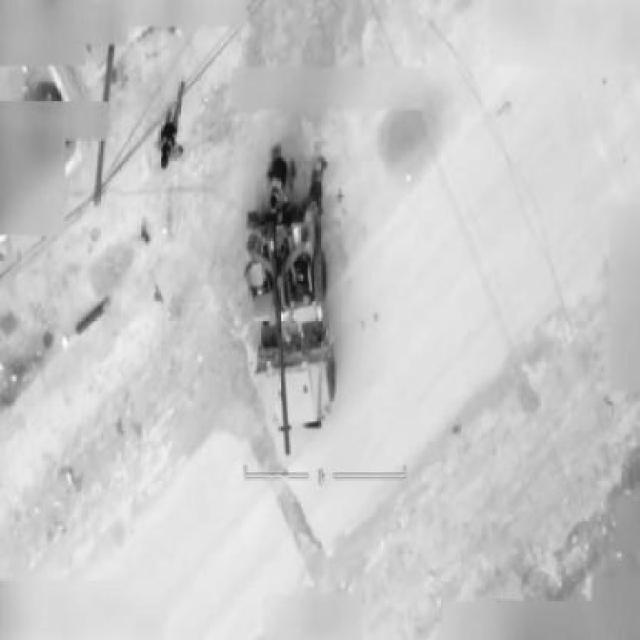Person: (159, 83, 192, 174), (265, 143, 299, 214), (306, 159, 333, 226)
Vehicle: (242, 213, 340, 438)
